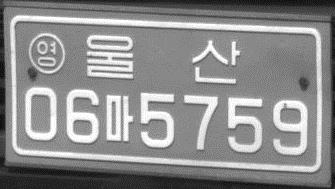0: (23, 85, 58, 141)
5: (225, 95, 264, 153), (138, 90, 176, 148)
6: (65, 87, 99, 144)
7: (181, 92, 220, 152)
9: (271, 97, 309, 157)
마: (103, 93, 134, 144)
영: (27, 31, 66, 74)
울산_D: (83, 31, 241, 85)
